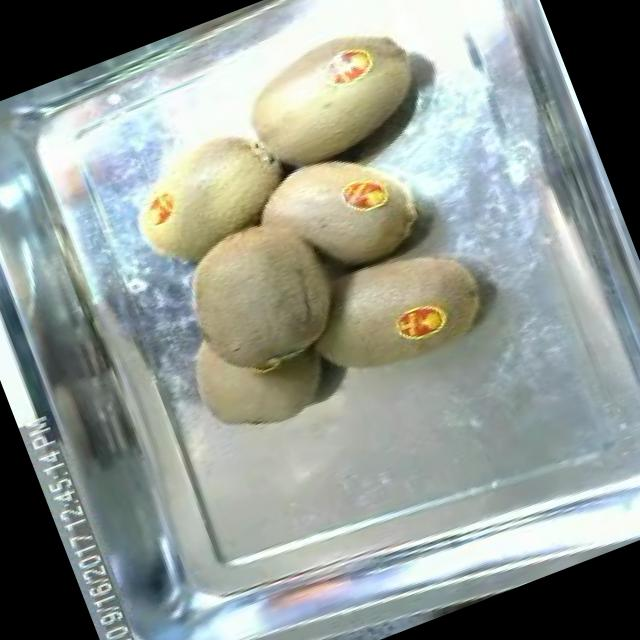Fruit: (211, 0, 448, 200), (156, 187, 366, 395), (282, 215, 506, 394), (106, 102, 317, 286)
